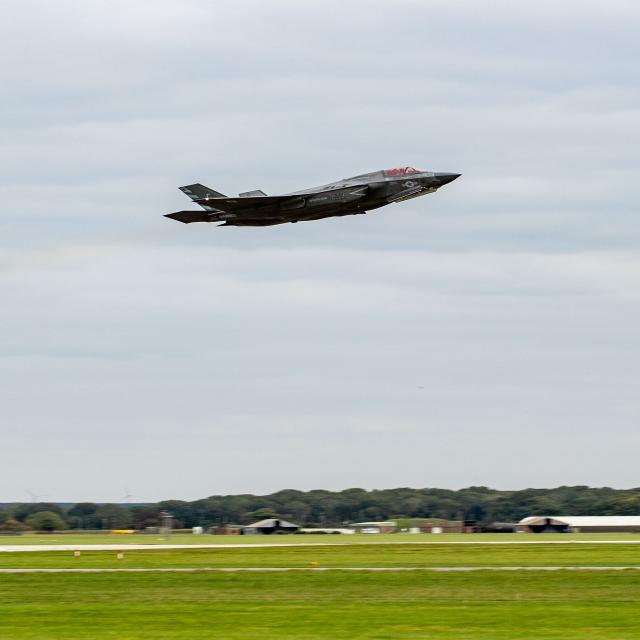MIL_Plane: (162, 166, 462, 226)
